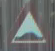Speed Breaker ahead: (3, 2, 50, 50)
